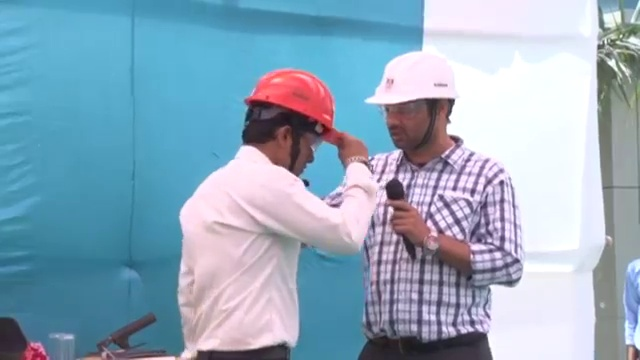helmet: (242, 69, 346, 145), (363, 51, 460, 107)
helmet_on: (240, 69, 346, 183), (361, 50, 460, 152)
person: (173, 70, 375, 360), (361, 50, 526, 360)
